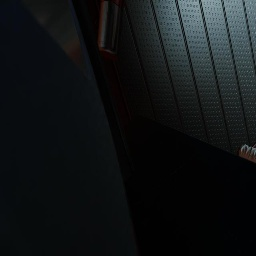NitrogenTank ,: (97, 0, 124, 60)
